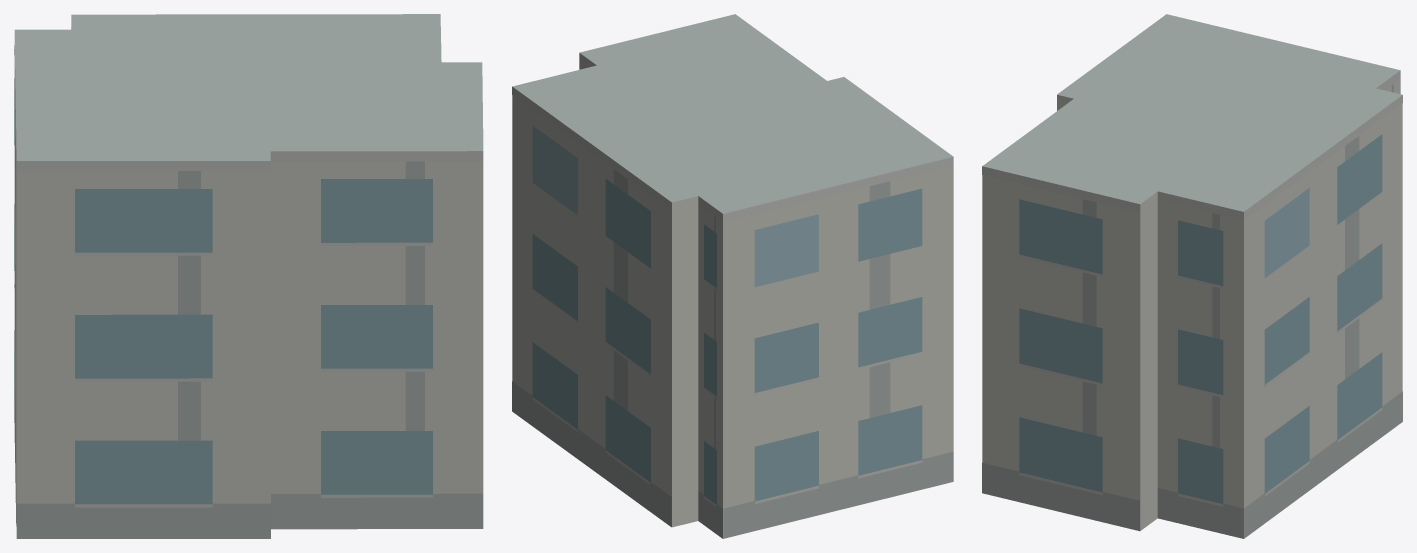
The model's file is residential-23ba93e5-452d-4e6c-a9f3-a21696a85d23.glb.
3 renders of one model, left to right at view 1: azimuth 30°, elevation 25°; view 2: azimuth 150°, elevation 25°; view 3: azimuth 270°, elevation 25°, orthographic. The views are drawn at different scales.
Visible parts, largest first — view 1: residential-23ba93e5-452d-4e6c-a9f3-a21696a85d23.tmp; view 2: residential-23ba93e5-452d-4e6c-a9f3-a21696a85d23.tmp; view 3: residential-23ba93e5-452d-4e6c-a9f3-a21696a85d23.tmp.
Boxes of the visible parts, x1,y1,x2,y2 form: residential-23ba93e5-452d-4e6c-a9f3-a21696a85d23.tmp: (14, 14, 483, 538); residential-23ba93e5-452d-4e6c-a9f3-a21696a85d23.tmp: (512, 14, 953, 538); residential-23ba93e5-452d-4e6c-a9f3-a21696a85d23.tmp: (982, 14, 1402, 538).
Bounding box in the file's own units: 11.89 × 9.15 × 10.67.
